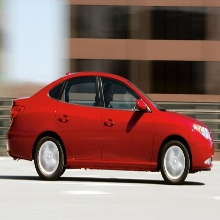no damage: (4, 71, 215, 182)
